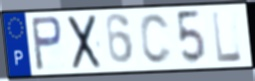5: (174, 8, 208, 68)
6: (106, 12, 136, 71)
C: (138, 12, 174, 67)
L: (210, 9, 244, 65)
P: (29, 15, 64, 73)
X: (67, 13, 103, 72)
